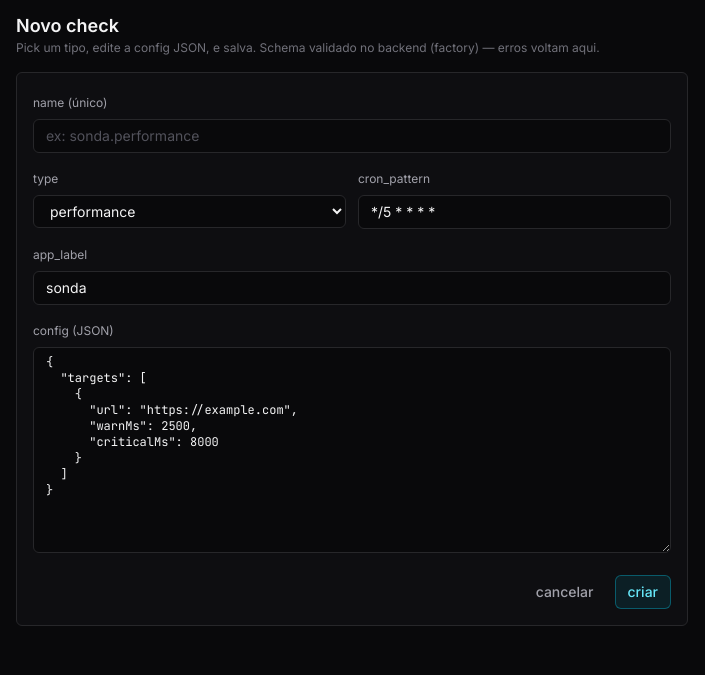
Scenario: CheckNewPage › mostra erro do backend (409 name duplicado)
Type "dup" into the field labelled "name (único)".
click(352, 136); type("dup")  # box [33,119,671,153]
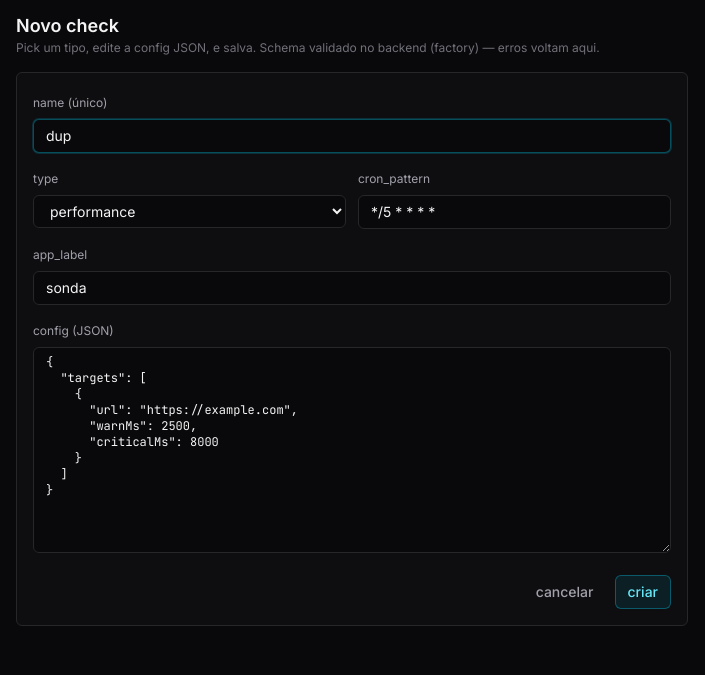
Click the button "criar".
click(643, 592)  # box [614,575,671,609]
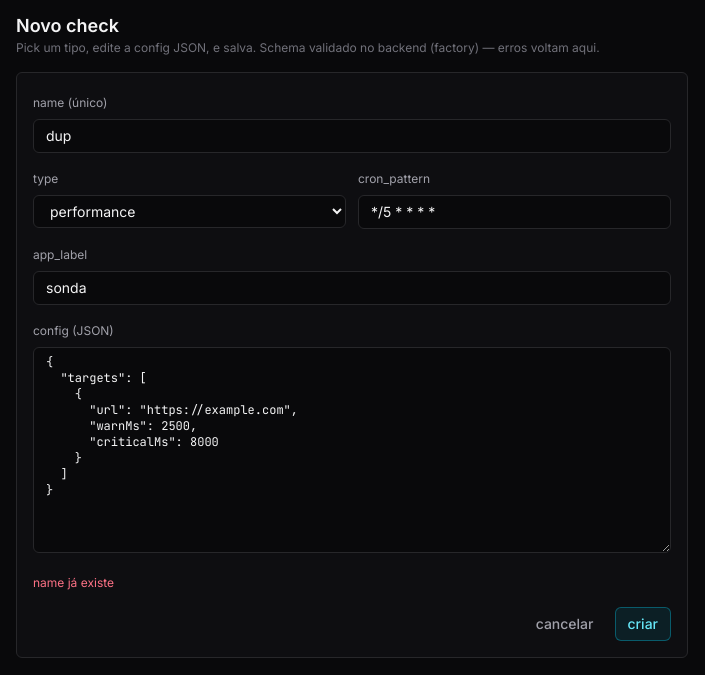
Now the message shows "já existe", box [33,575,114,590]
